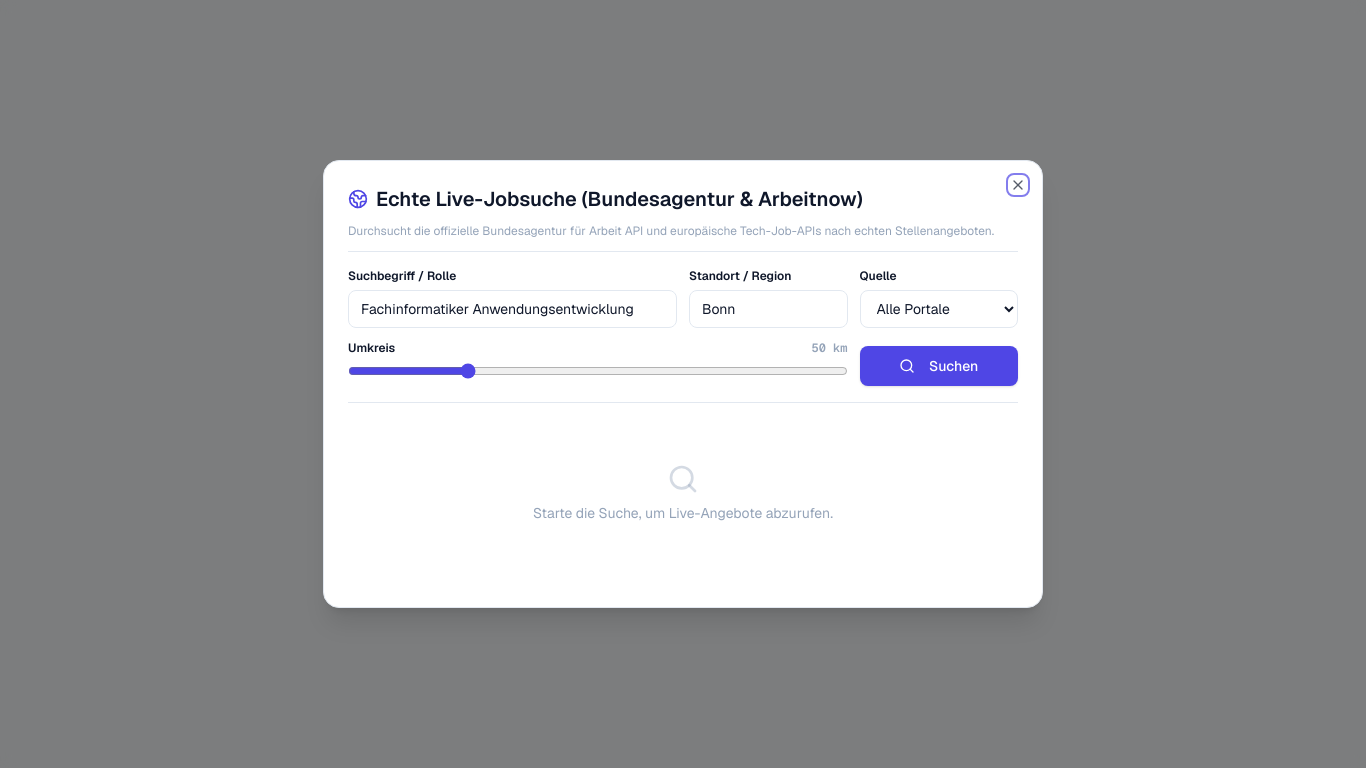
Test case: LiveJobSearchModal › übernimmt einen gefundenen Job und markiert ihn danach als hinzugefügt
What coordinates should you click on to do the following:
click the button "Suchen"
I would click on:
 (939, 366)
Its box is [860,346,1018,386].
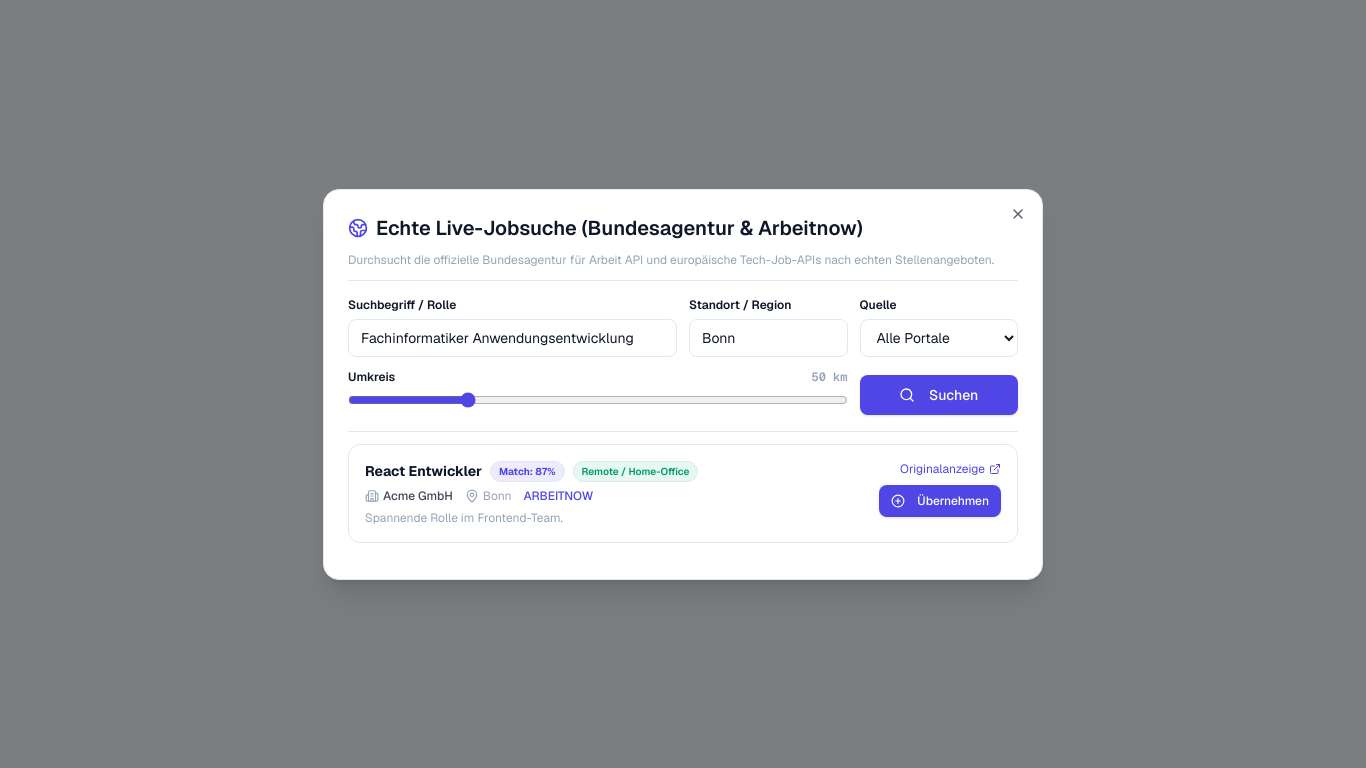
Check: the text "React Entwickler" is shown, box [365,461,482,481]
What coordinates should you click on to do the following:
click the button "Übernehmen"
I would click on:
 (940, 500)
Its box is [879,484,1001,516].
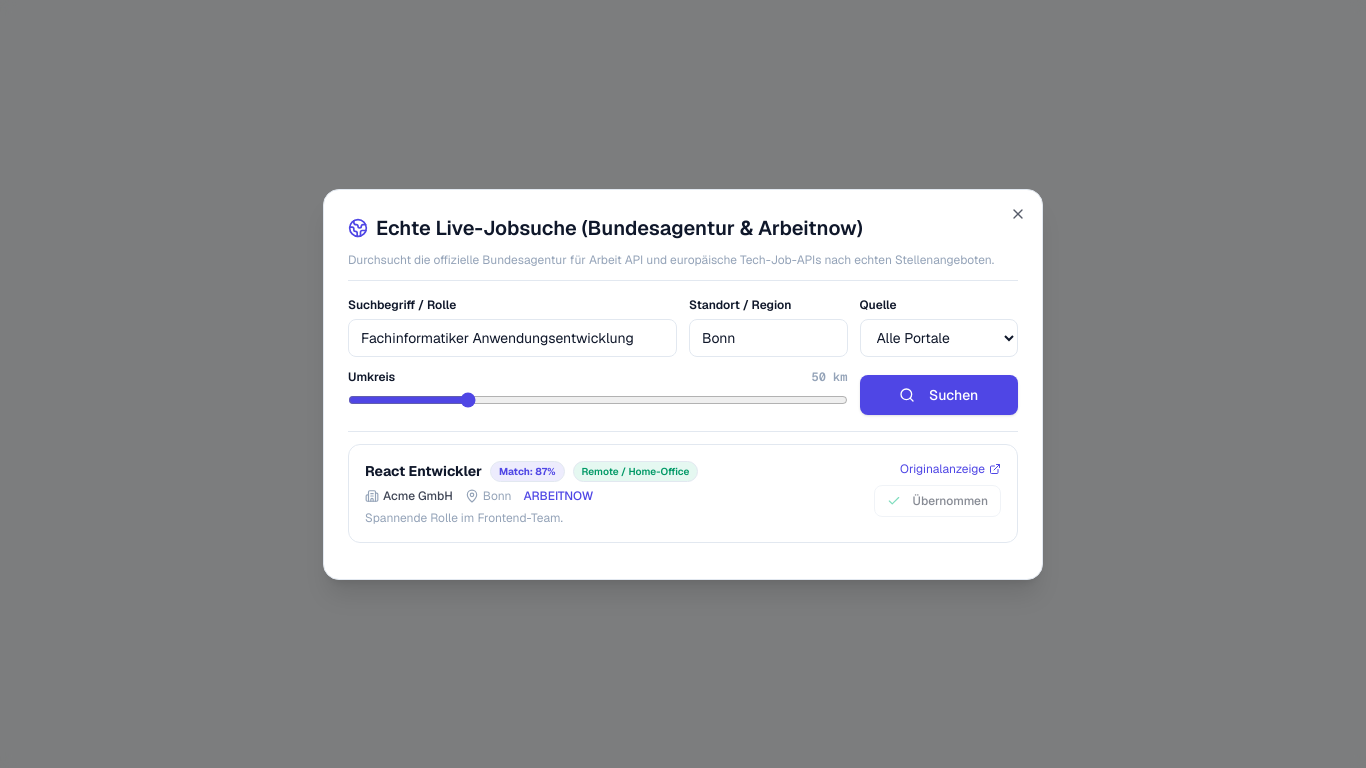
Check: the button "Übernommen" is disabled, box [874,484,1001,516]
